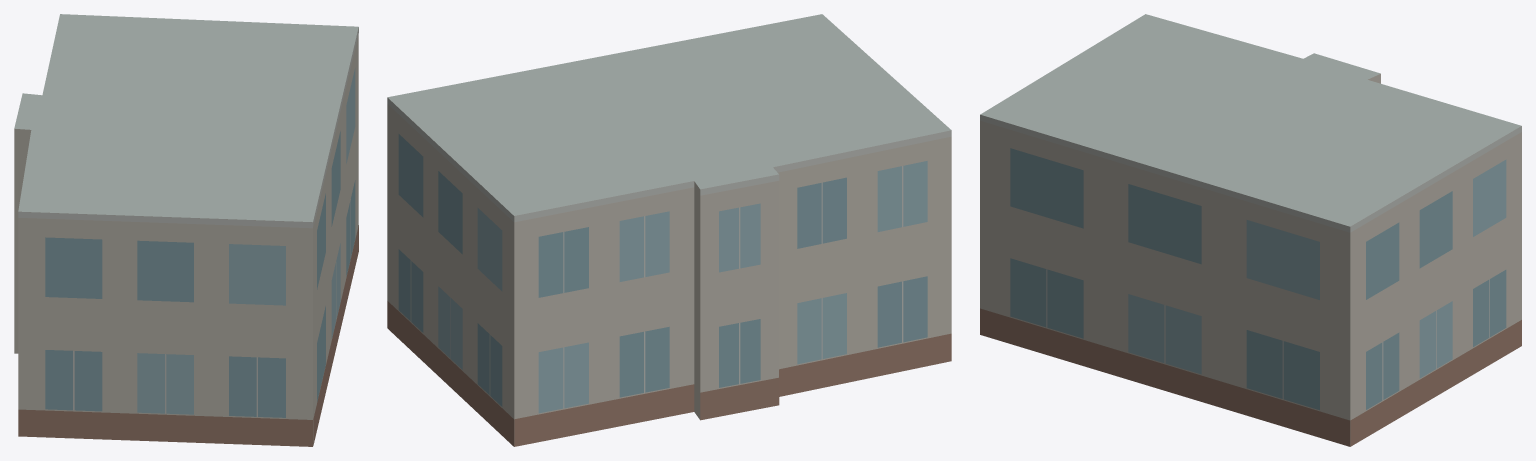
The model's file is survey-upis-32859897.glb.
3 renders of one model, left to right at view 1: azimuth 30°, elevation 25°; view 2: azimuth 150°, elevation 25°; view 3: azimuth 270°, elevation 25°, orthographic. The views are drawn at different scales.
Visible parts, largest first — view 1: survey-upis-32859897.tmp; view 2: survey-upis-32859897.tmp; view 3: survey-upis-32859897.tmp.
Part boxes in pixels (bbox=[...]): survey-upis-32859897.tmp: bbox=[14, 14, 358, 446]; survey-upis-32859897.tmp: bbox=[387, 14, 951, 446]; survey-upis-32859897.tmp: bbox=[980, 14, 1521, 446].
Size of the model in its own units: 18.45 by 8.9 by 19.86.
